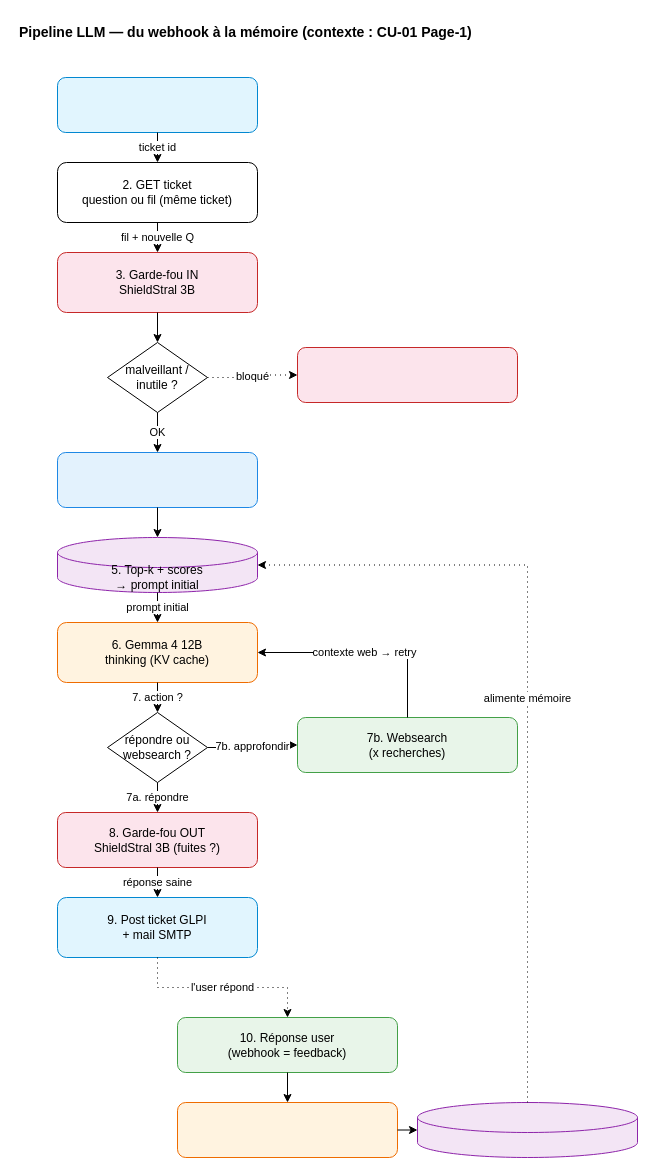
Some shapes in this 655 by 1175 pixel diagram are drawn without their labels. The shapes that lost their labels are listed below. From the top down, each one's centre as x and y in pixels, then its label:
At (x=157, y=104): "1. Webhook GLPI création / réponse user".
At (x=407, y=374): "Ticket en attente → technicien répond".
At (x=157, y=480): "4. Embeddings BGE-M3".
At (x=287, y=1130): "Gemma 4 E2B note l'échange".
At (x=527, y=1130): "11. Embed + index Q/R + score → mémoire".
